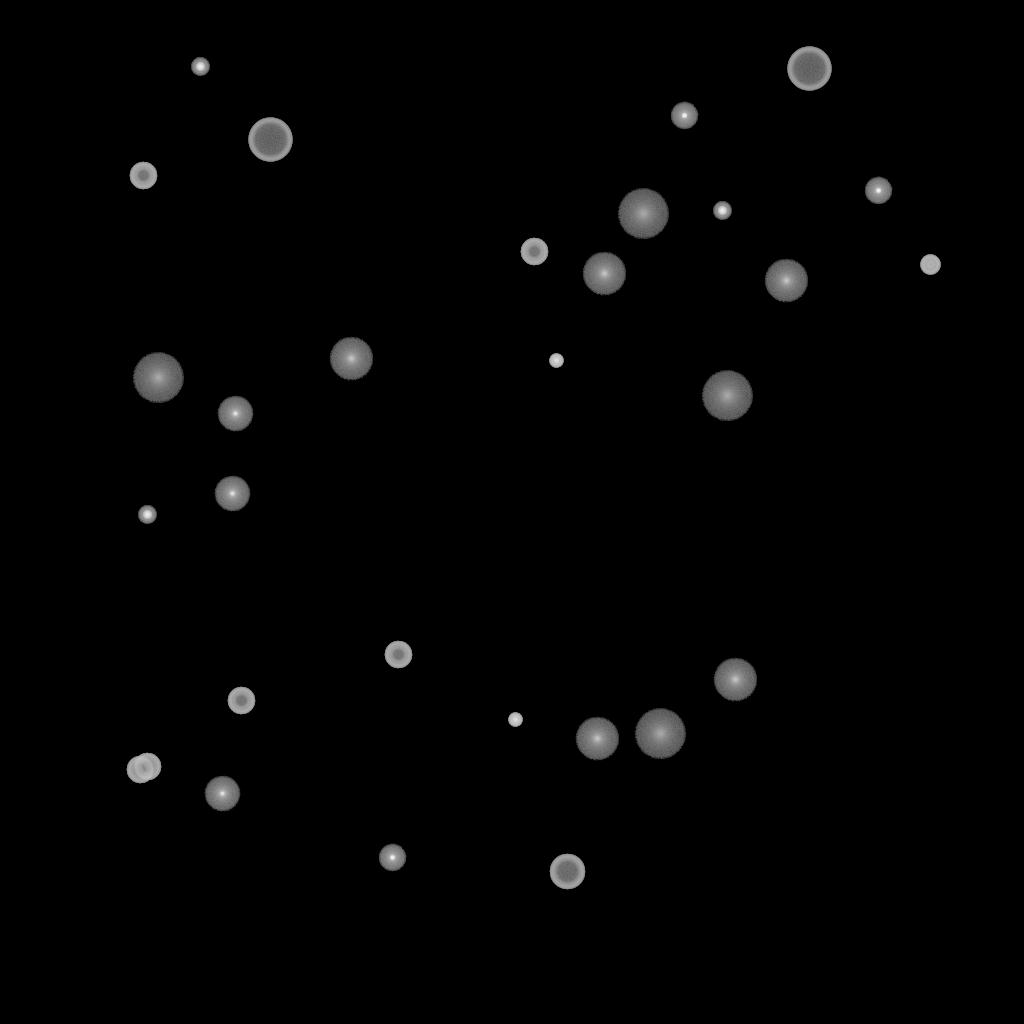depth:-10: (670, 102, 698, 130), (378, 844, 406, 872), (864, 177, 892, 205)
depth:-20: (713, 202, 731, 220), (191, 58, 209, 76), (138, 506, 156, 524)
depth:-30: (549, 354, 563, 368), (508, 713, 522, 727)
depth:-40: (920, 255, 940, 275)
depth:-50: (126, 756, 154, 784), (384, 641, 412, 669), (133, 753, 161, 781), (520, 238, 548, 266), (129, 162, 157, 190), (227, 687, 255, 715)
depth:-60: (549, 854, 585, 890)
depth:-70: (248, 118, 292, 162), (787, 47, 831, 91)
depth:0: (217, 396, 253, 432), (214, 476, 250, 512), (204, 776, 240, 812)
depth:10: (713, 658, 757, 702), (582, 252, 626, 296), (764, 259, 808, 303), (575, 717, 619, 761), (329, 337, 373, 381)
depth:20: (634, 709, 686, 759), (617, 189, 669, 239), (701, 371, 753, 421), (132, 353, 184, 403)
